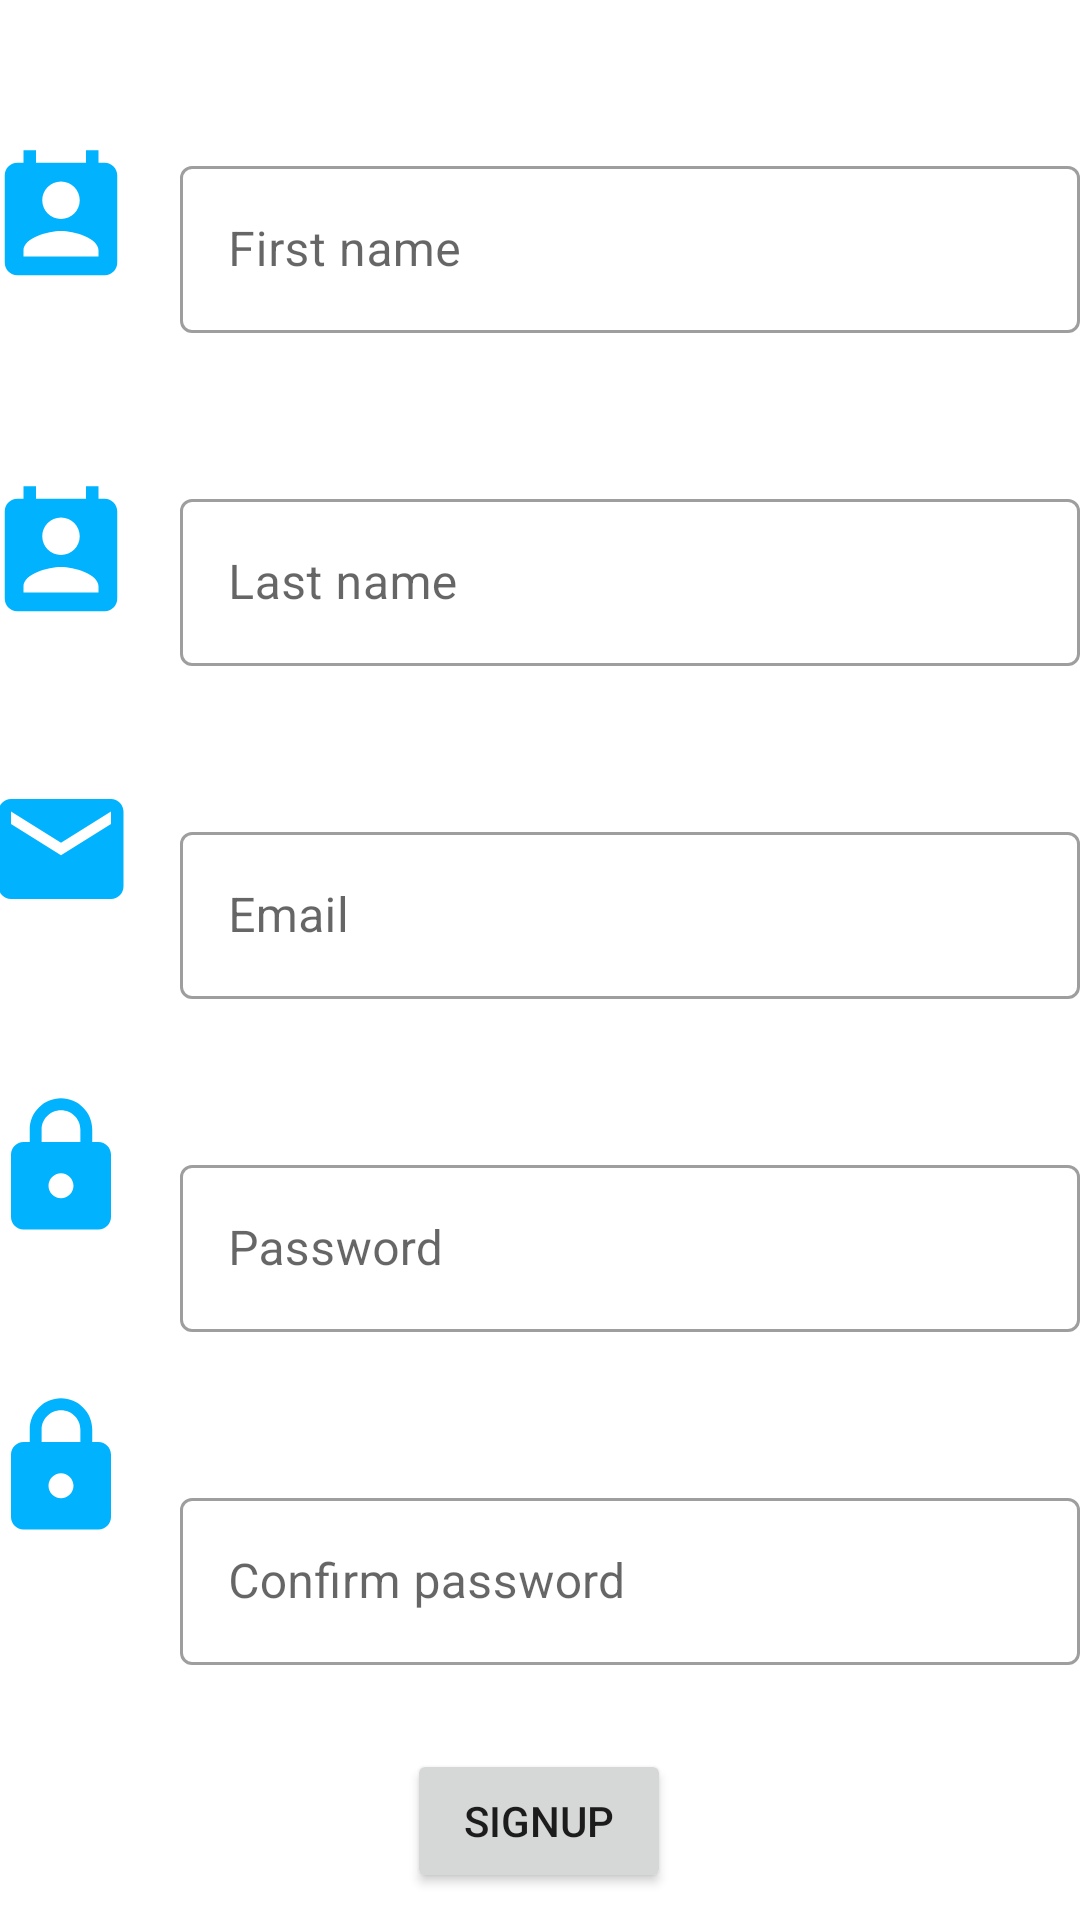

Icons on this 1080*1920 Android screen, each with the point to tap as (x=x, y=y):
lock: (x=61, y=1164), (x=61, y=1464)
perm contact calendar: (x=61, y=213), (x=61, y=549)
